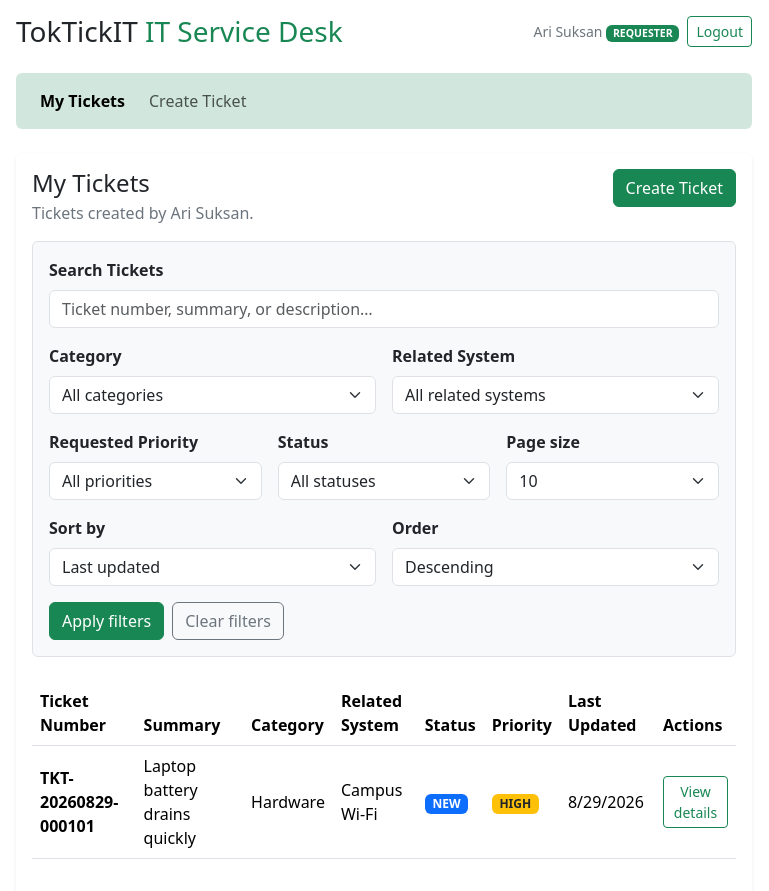
Test: My Tickets UI › shows API-backed ticket fields and the Create Ticket action
Expected: the heading "My Tickets" is shown, [32,166,150,199]
Expected: the column heading "TKT-20260829-000101" is shown, [32,746,136,859]
Step 1. Click the button "View details" → (696, 802), box [663,776,728,828]
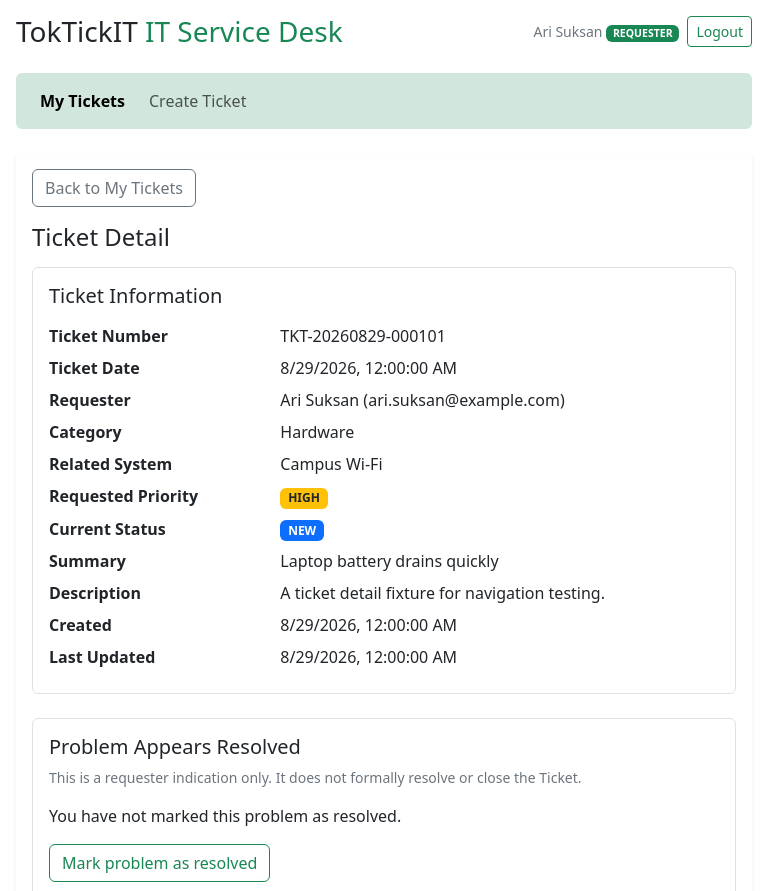
Expected: the heading "Ticket Detail" is shown, [32,220,170,253]
Step 2. Click the button "Back to My Tickets" → (114, 188), box [32,169,196,207]
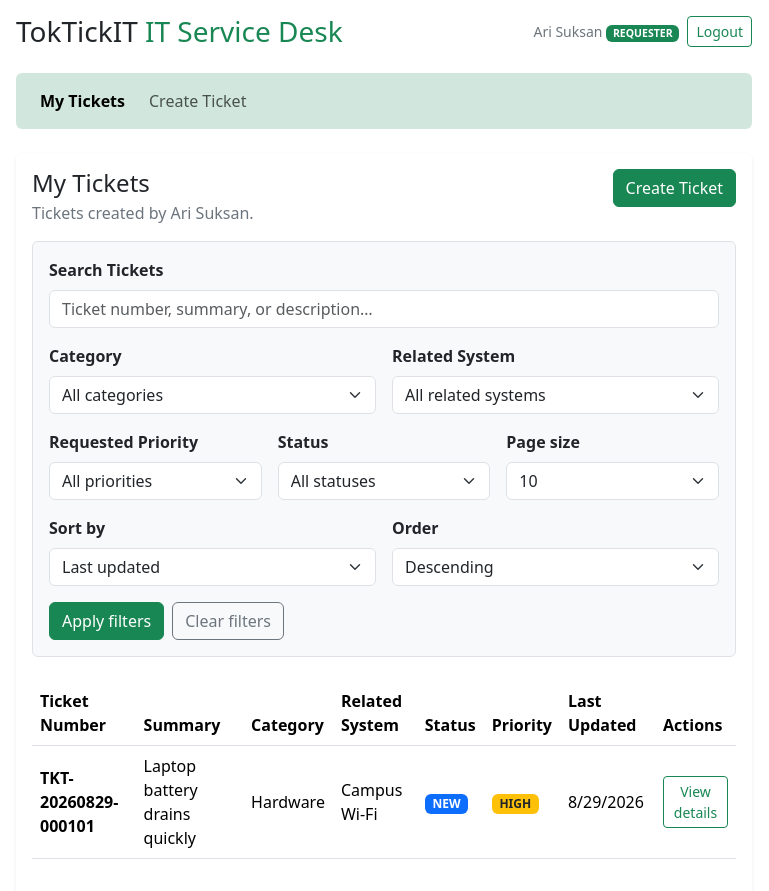
Expected: the heading "My Tickets" is shown, [32,166,150,199]
Step 3. Click the button "Create Ticket" → (674, 188), box [613,169,736,207]
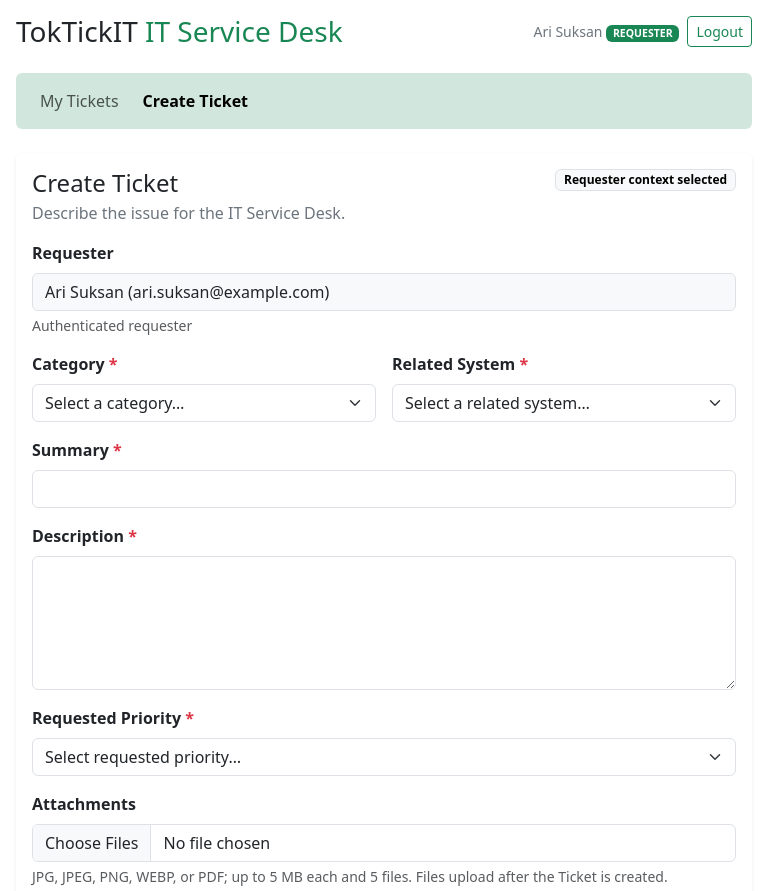
Expected: the heading "Create Ticket" is shown, [32,166,178,199]
